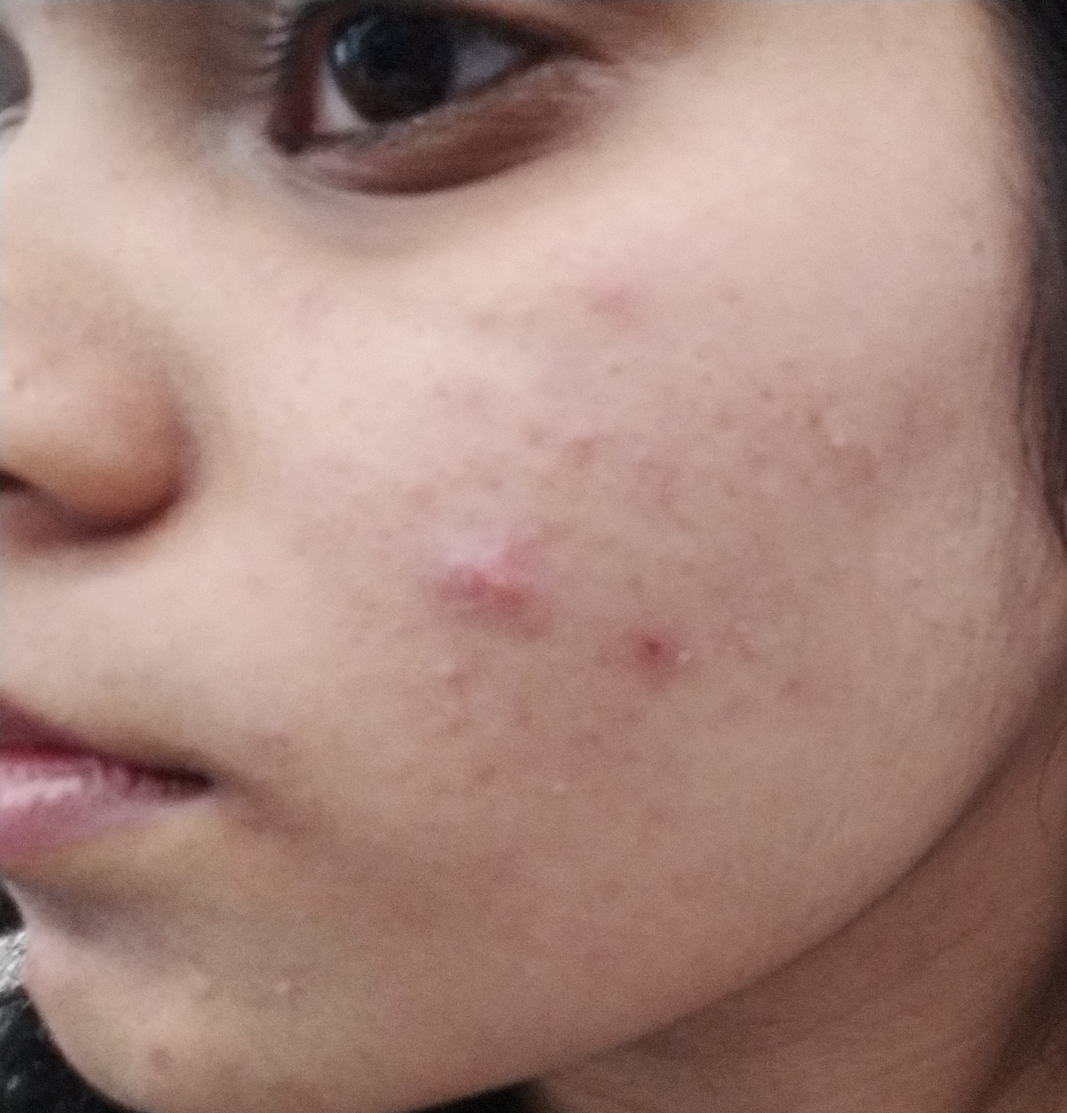nodule: (394, 527, 556, 659)
papule: (603, 617, 693, 689), (561, 417, 625, 494)
